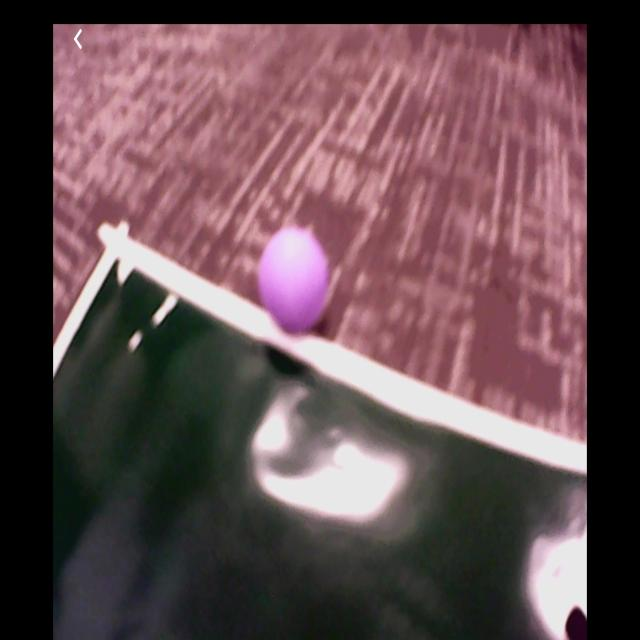ball: (260, 225, 328, 334)
